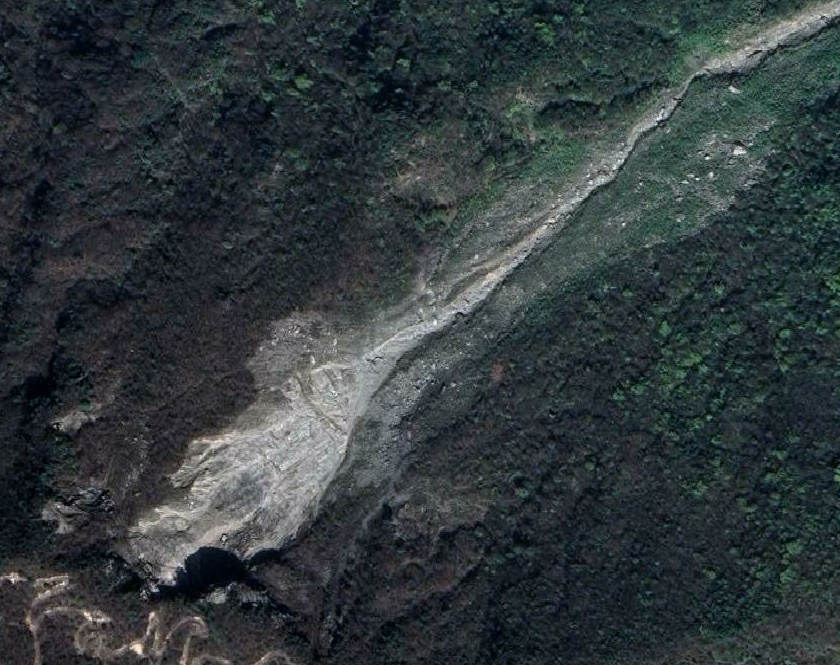slope: (135, 252, 527, 599)
